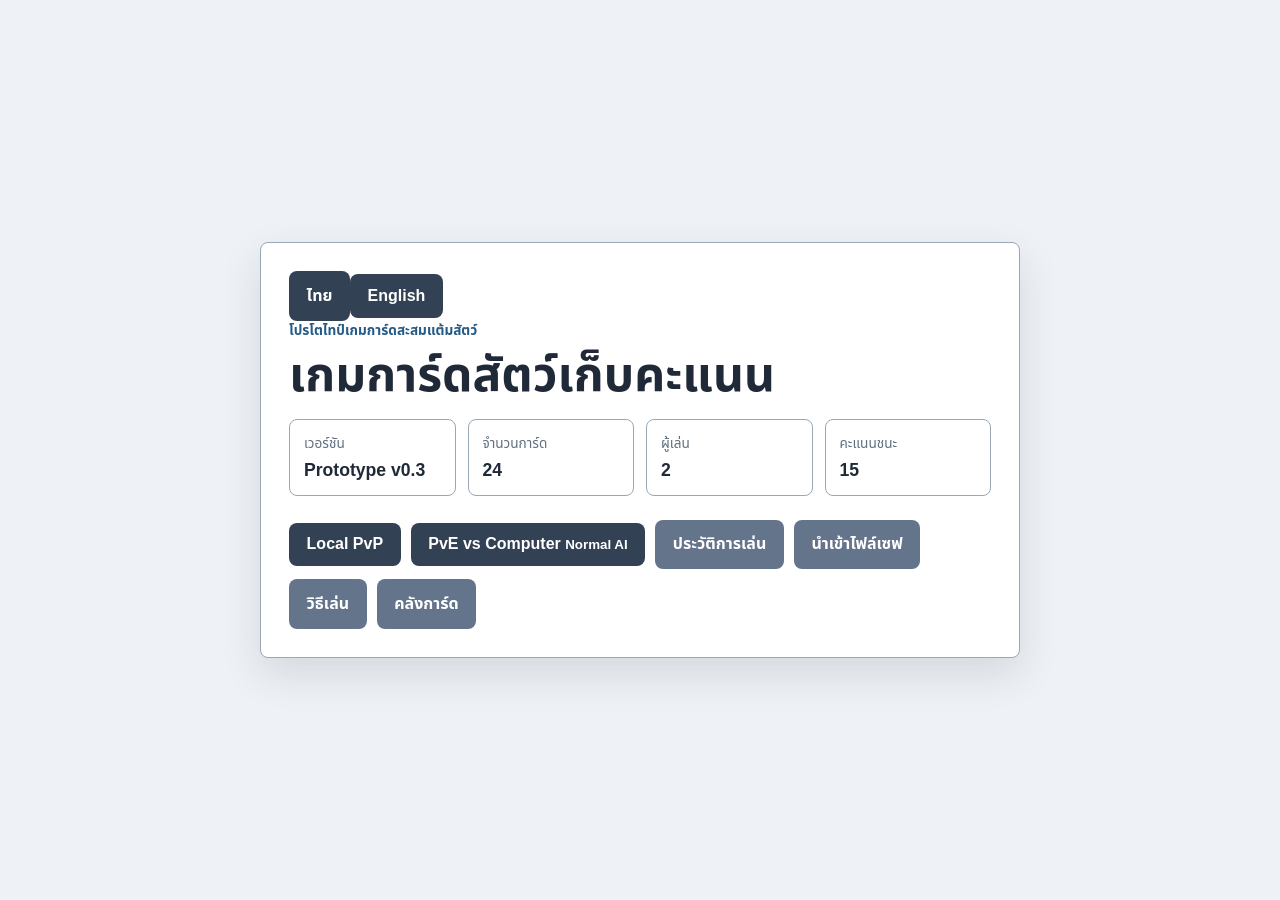
App Phase 4 UI › starts a local hot-seat battle from the main menu
The image size is (1280, 900).
Check: the heading "เกมการ์ดสัตว์เก็บคะแนน" is shown, box [289,348,775,401]
What coordinates should you click on to do the following:
click the button "Local PvP"
I would click on:
 (345, 544)
Its box is [289,523,401,566].
(page scrolled)
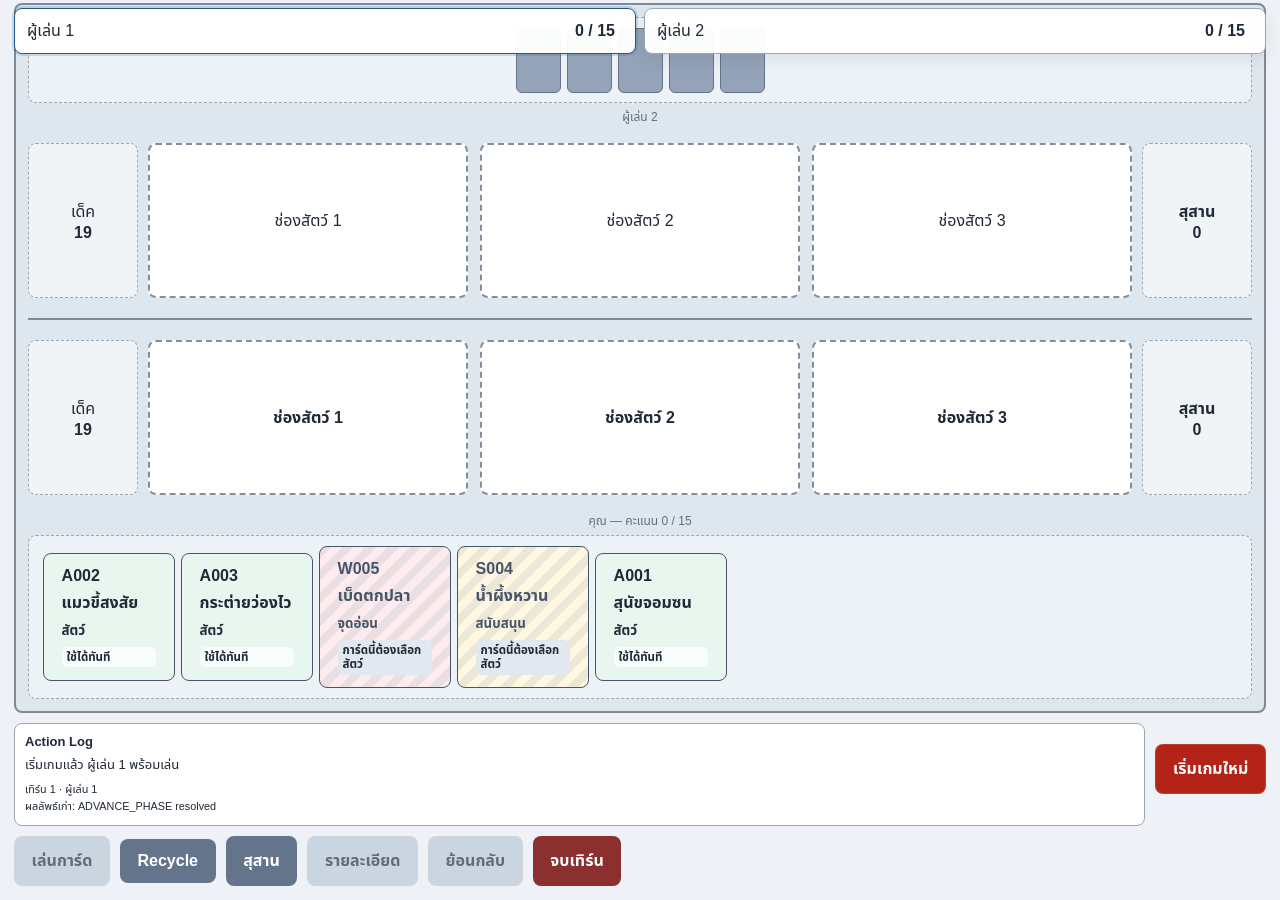
Check: the element named "สนามต่อสู้" is shown
Check: the element named "มือคู่ต่อสู้ถูกซ่อน" is shown, box [28,17,1252,103]
Check: the element named "มือผู้เล่นปัจจุบัน" is shown, box [28,535,1252,699]
